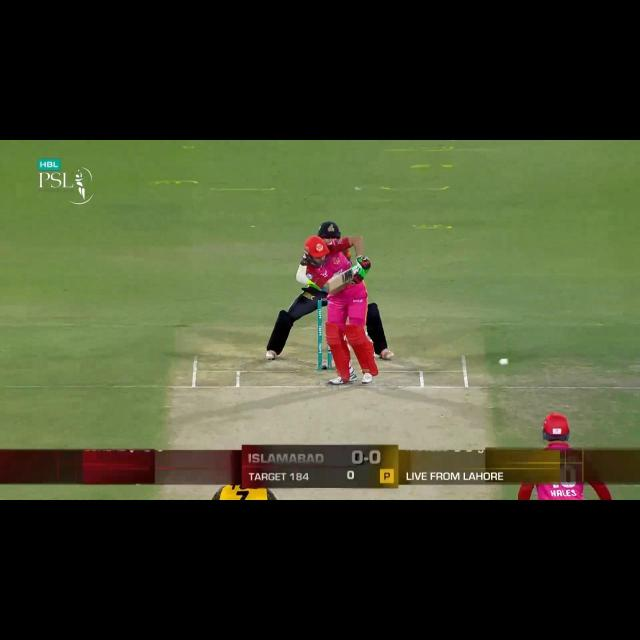bat: (322, 270, 360, 292)
toe: (324, 279, 334, 294)
